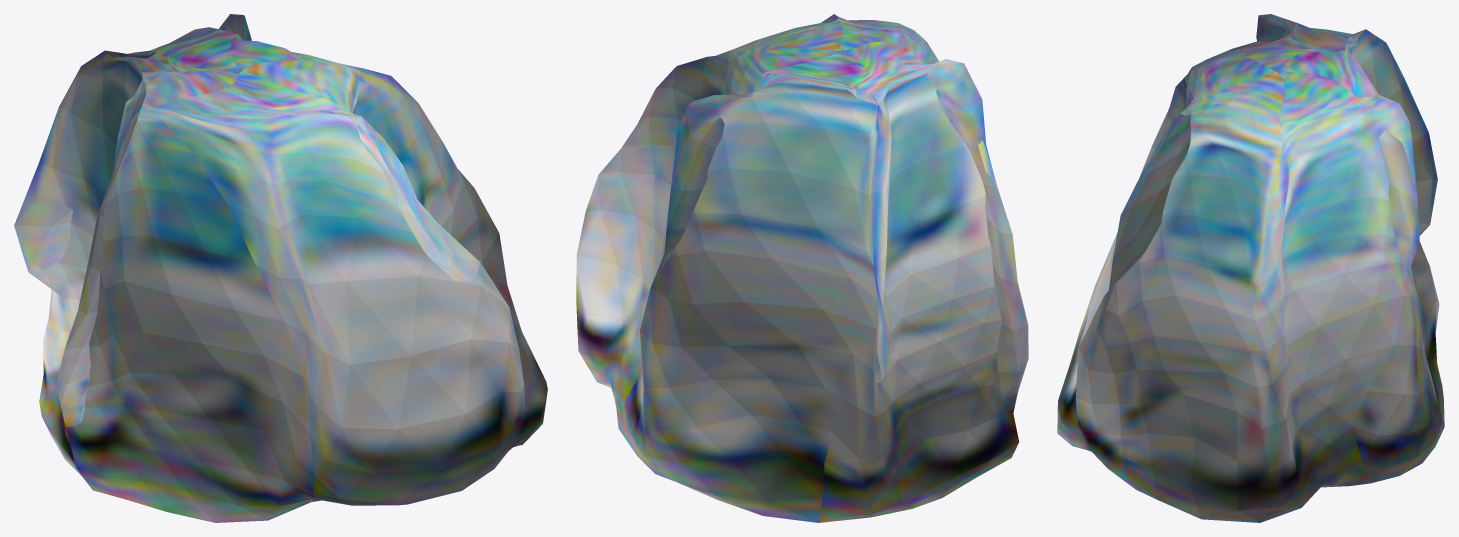
3 views of the same model, side by side, from view 1: azimuth 30°, elevation 25°; view 2: azimuth 150°, elevation 25°; view 3: azimuth 270°, elevation 25° (orthographic). The views are drawn at different scales.
Visible parts, largest first — view 1: pMesh1; view 2: pMesh1; view 3: pMesh1.
Boxes of the visible parts, <box> form: pMesh1: <box>14,14,547,522</box>; pMesh1: <box>576,14,1028,522</box>; pMesh1: <box>1057,14,1444,522</box>.
Bounding box in the file's own units: 2.42 × 2.09 × 2.
1 material, 1 textured.
